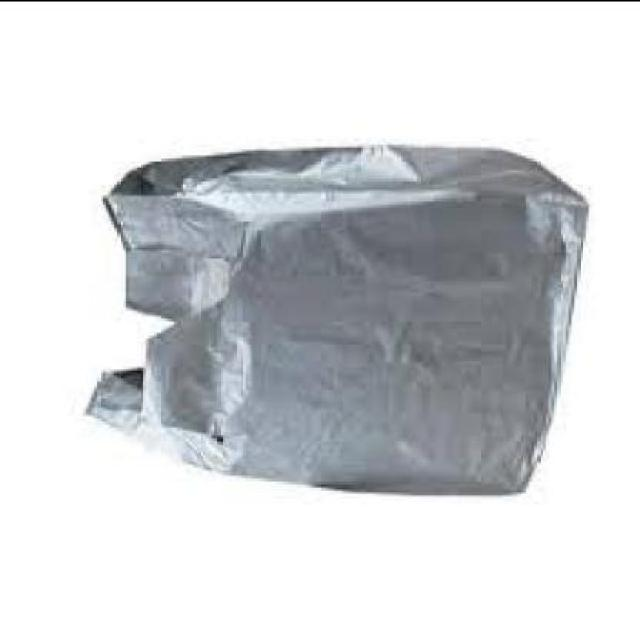PLASTIC: (86, 145, 588, 492)
